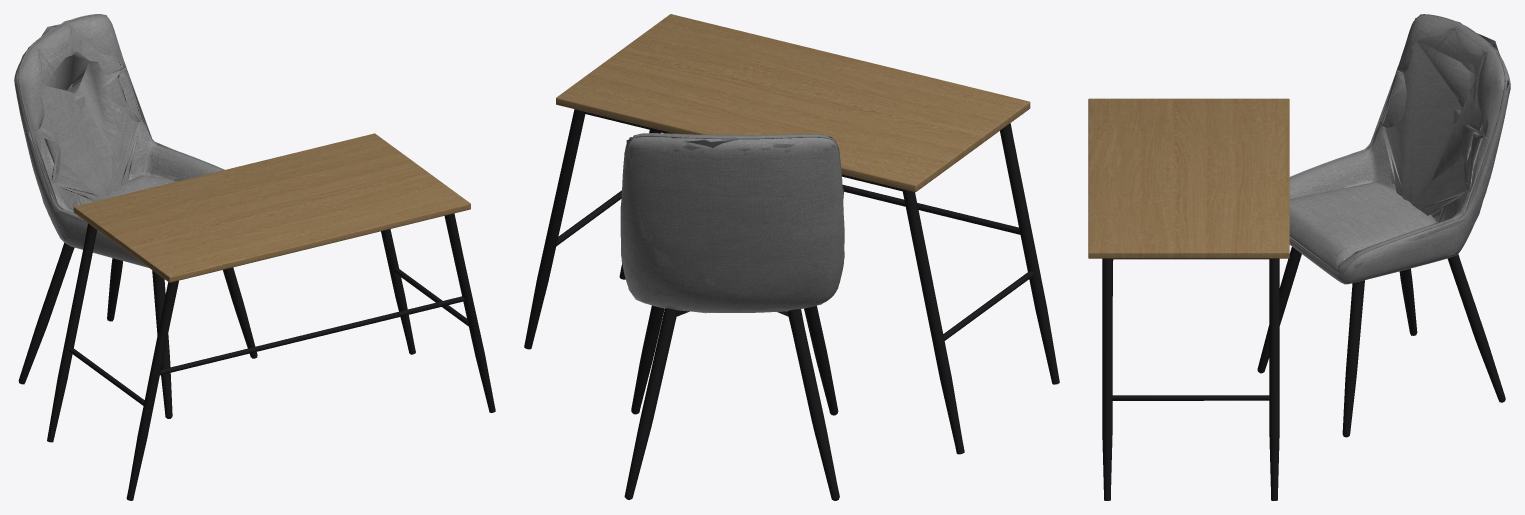
Rendered from __lods__chair__table.glb.
3 views of the same model, side by side, from view 1: azimuth 30°, elevation 25°; view 2: azimuth 150°, elevation 25°; view 3: azimuth 270°, elevation 25° (orthographic). The views are drawn at different scales.
Parts seen in each view (by area): view 1: __LOD_0__01_01_0, __LOD_1__01_01_0, __LOD_6__01_01_0, __LOD_5__01_01_0, __LOD_3__01_01_0, __LOD_4__01_01_0, __LOD_2__01_01_0; view 2: __LOD_0__01_01_0, __LOD_1__01_01_0, __LOD_4__01_01_0, __LOD_3__01_01_0, __LOD_2__01_01_0; view 3: __LOD_0__01_01_0, __LOD_1__01_01_0, __LOD_6__01_01_0, __LOD_5__01_01_0, __LOD_4__01_01_0, __LOD_3__01_01_0, __LOD_2__01_01_0.
Boxes of the visible parts, x1=… form: __LOD_0__01_01_0: x1=14, y1=14, x2=495, y2=500; __LOD_1__01_01_0: x1=16, y1=16, x2=470, y2=404; __LOD_6__01_01_0: x1=40, y1=51, x2=139, y2=204; __LOD_5__01_01_0: x1=19, y1=15, x2=161, y2=204; __LOD_3__01_01_0: x1=15, y1=14, x2=495, y2=500; __LOD_4__01_01_0: x1=14, y1=14, x2=495, y2=498; __LOD_2__01_01_0: x1=14, y1=14, x2=493, y2=500; __LOD_0__01_01_0: x1=524, y1=14, x2=1059, y2=500; __LOD_1__01_01_0: x1=556, y1=15, x2=1032, y2=500; __LOD_4__01_01_0: x1=529, y1=110, x2=1057, y2=499; __LOD_3__01_01_0: x1=524, y1=109, x2=1059, y2=500; __LOD_2__01_01_0: x1=525, y1=110, x2=1056, y2=500; __LOD_0__01_01_0: x1=1088, y1=14, x2=1510, y2=500; __LOD_1__01_01_0: x1=1088, y1=15, x2=1508, y2=436; __LOD_6__01_01_0: x1=1381, y1=41, x2=1483, y2=222; __LOD_5__01_01_0: x1=1289, y1=14, x2=1509, y2=275; __LOD_4__01_01_0: x1=1104, y1=15, x2=1510, y2=500; __LOD_3__01_01_0: x1=1103, y1=14, x2=1510, y2=500; __LOD_2__01_01_0: x1=1088, y1=14, x2=1510, y2=500.
Bounding box in the file's own units: 1.05 × 0.8543 × 0.9966.
1 material, 1 textured.
